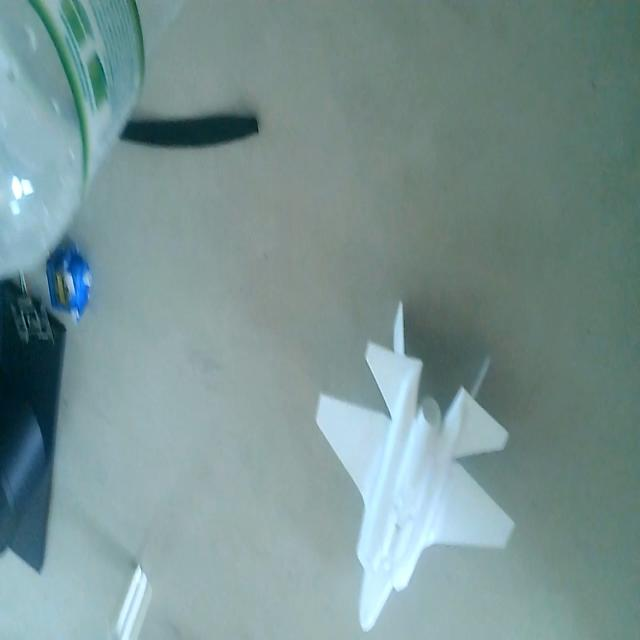Jet: (314, 292, 517, 640)
